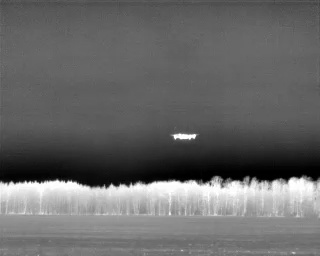DRONE: (167, 127, 202, 146)
